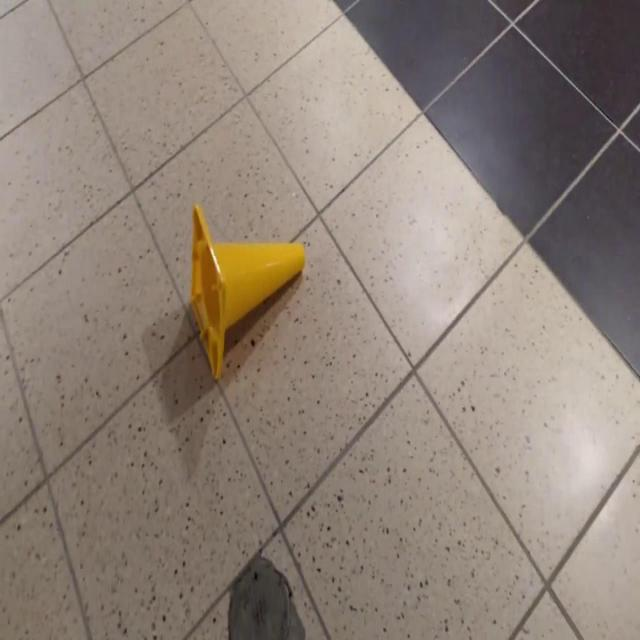frc_cone: (192, 204, 306, 384)
